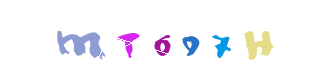6: (122, 0, 202, 80)
7: (166, 0, 246, 80)
9: (125, 0, 205, 80)
H: (218, 0, 298, 80)
M: (53, 0, 133, 80)
T: (89, 0, 169, 80)
